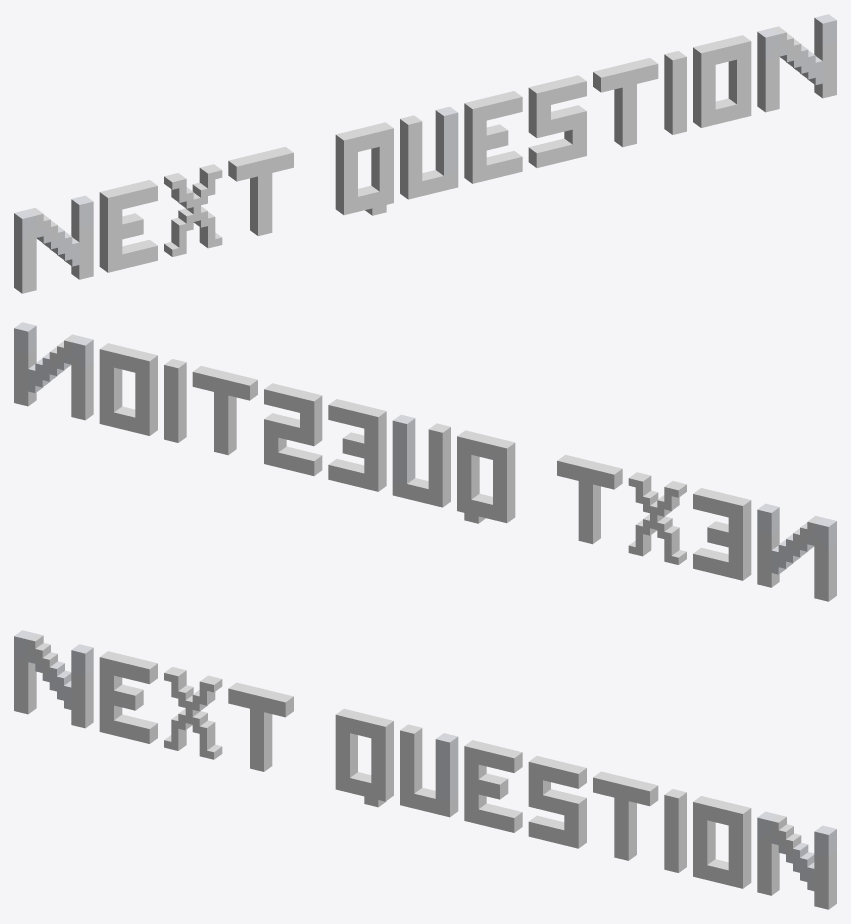
File: next.obj
3 views of the same model, one above another, from view 1: azimuth 30°, elevation 25°; view 2: azimuth 150°, elevation 25°; view 3: azimuth 330°, elevation 25° (orthographic).
Visible parts, largest first — view 1: _8; view 2: _8; view 3: _8.
Part boxes in pixels (x1=…): _8: x1=14, y1=14, x2=836, y2=293; _8: x1=14, y1=322, x2=836, y2=601; _8: x1=14, y1=630, x2=836, y2=909.
Bounding box in the file's own units: 114 × 11 × 2.
